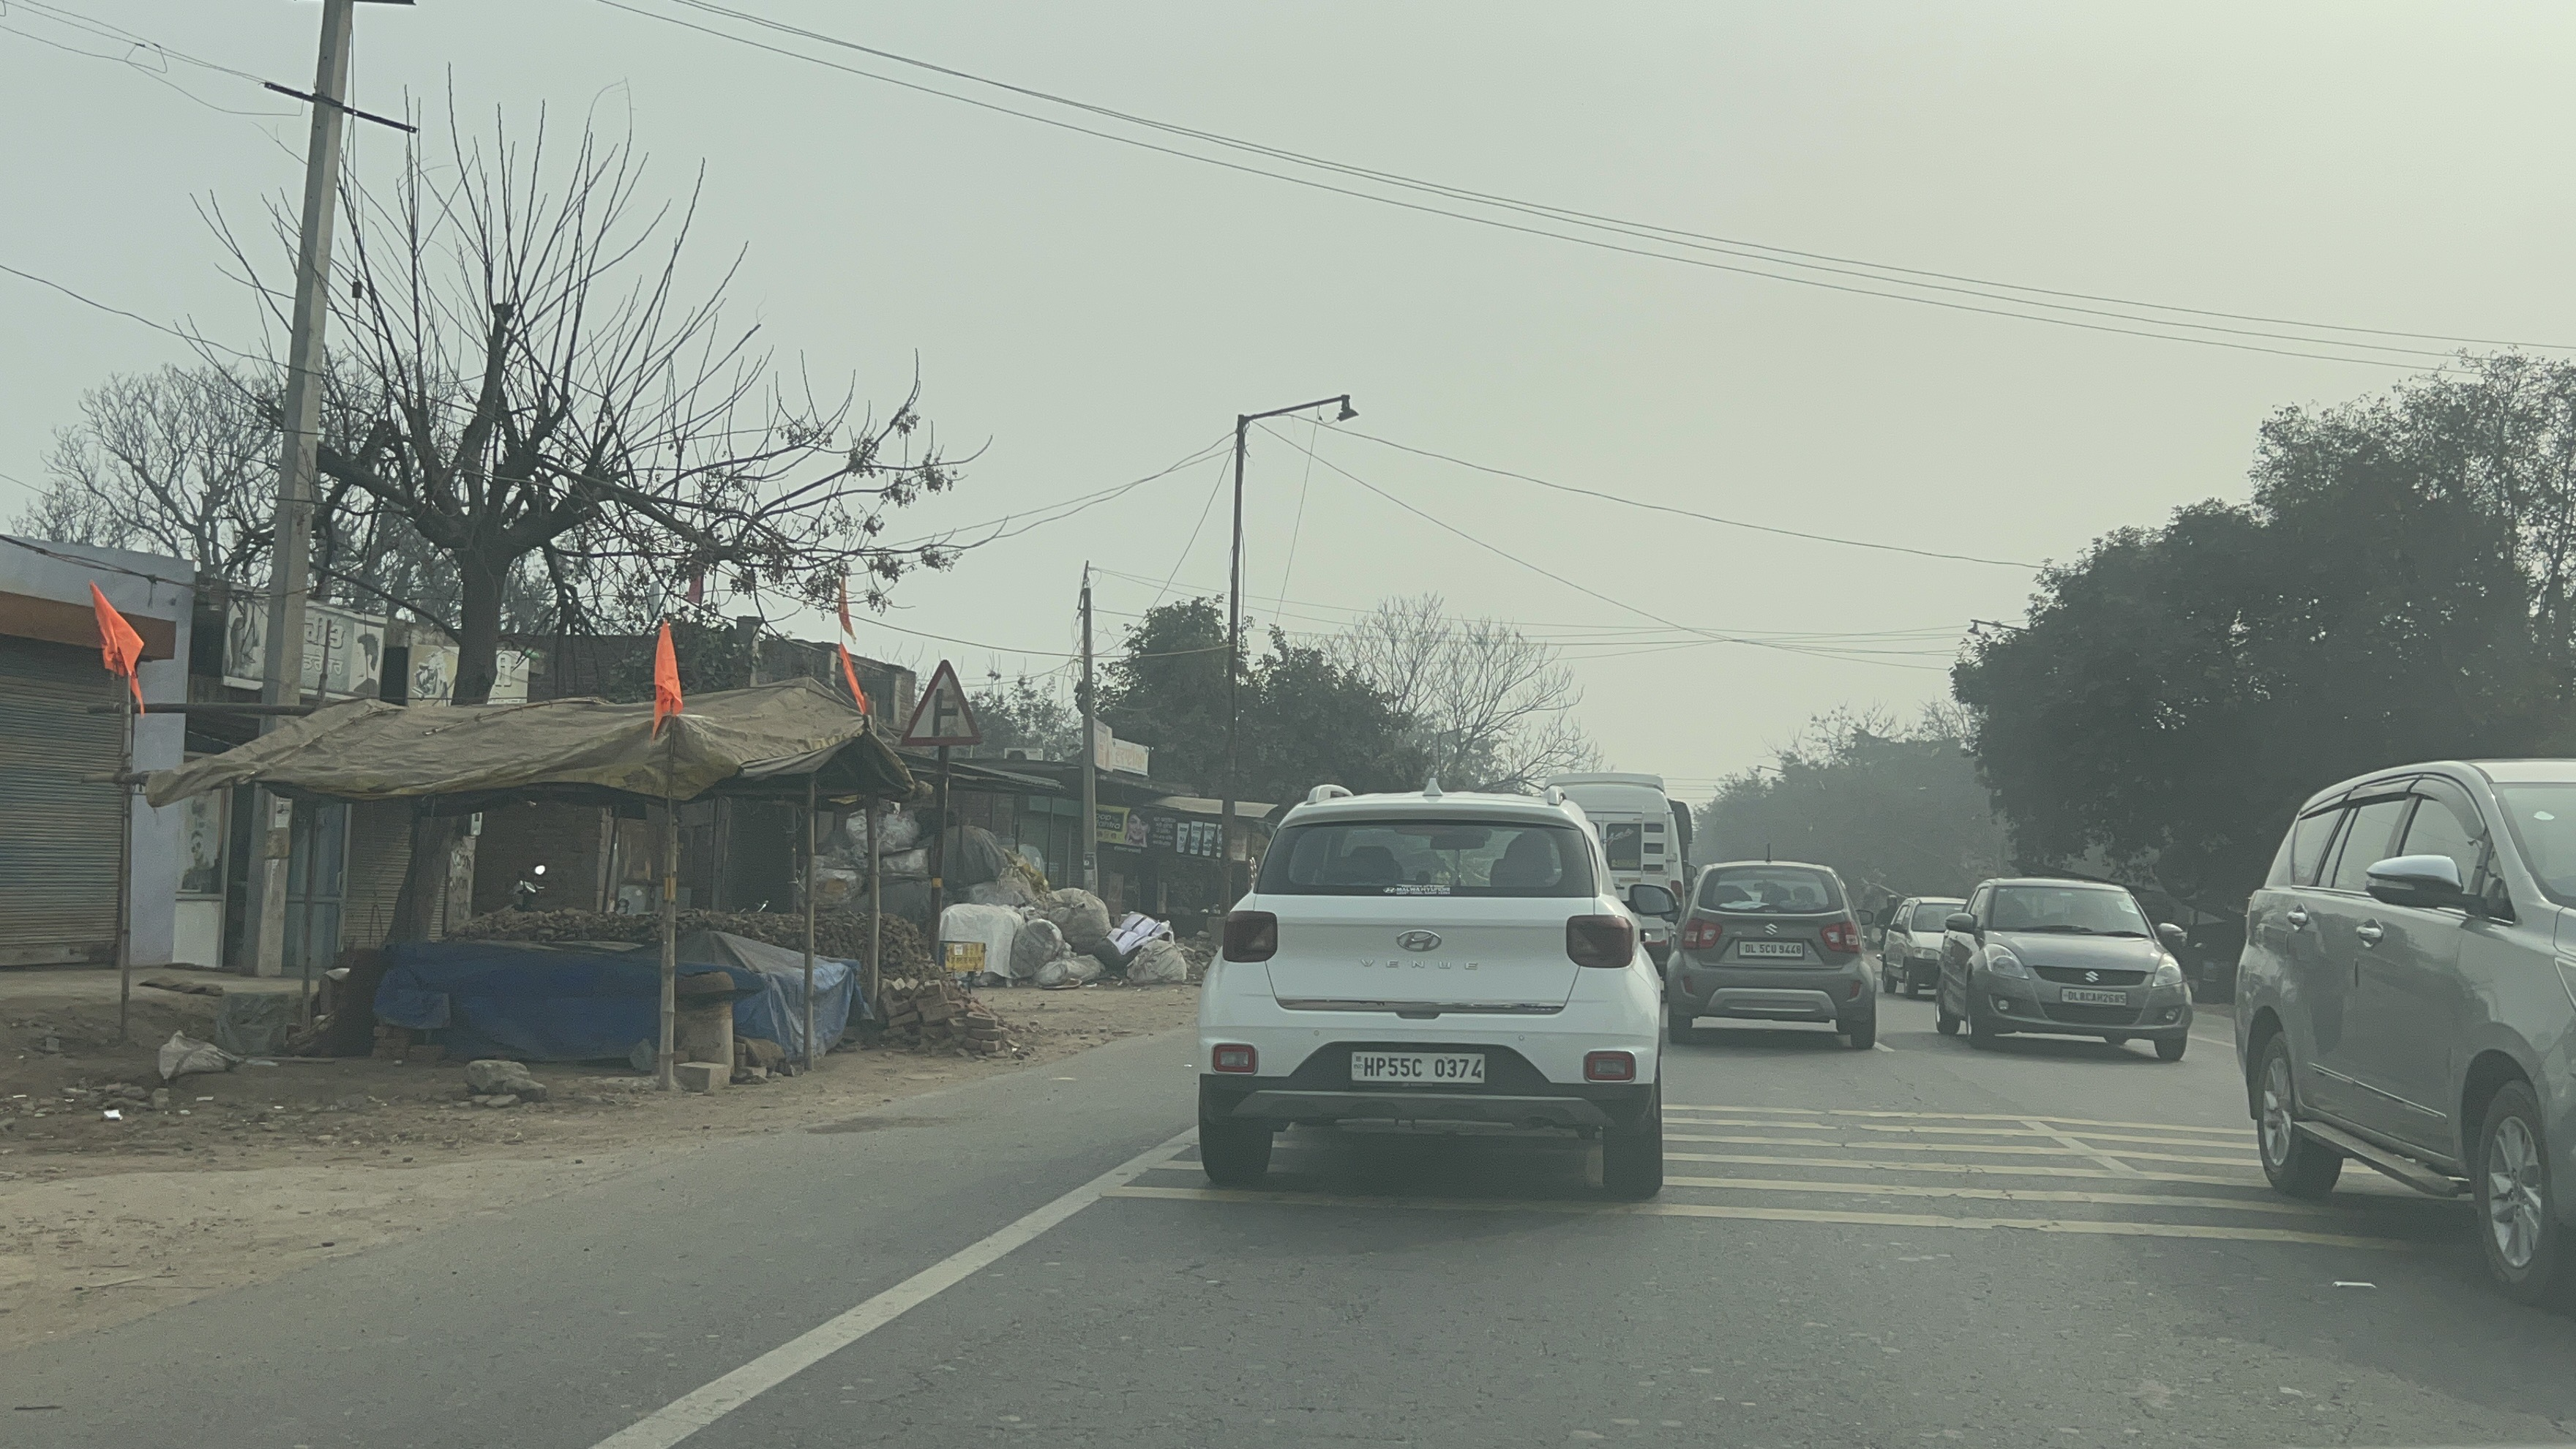Warning: (885, 646, 991, 770)
